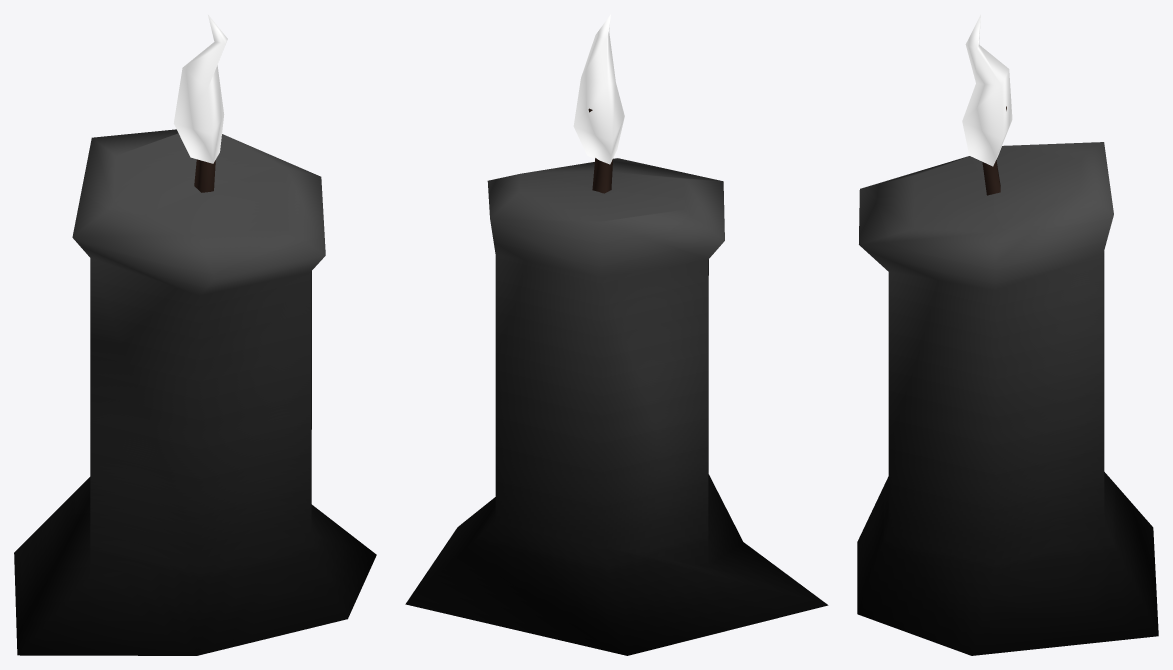
The model's file is CandleShapeD.056.glb.
3 views of the same model, side by side, from view 1: azimuth 30°, elevation 25°; view 2: azimuth 150°, elevation 25°; view 3: azimuth 270°, elevation 25° (orthographic). The views are drawn at different scales.
Visible parts, largest first — view 1: CandleShapeD.056; view 2: CandleShapeD.056; view 3: CandleShapeD.056.
Boxes of the visible parts, box(x1,y1,x2,y2) form: CandleShapeD.056: box(14, 15, 376, 655); CandleShapeD.056: box(405, 14, 828, 655); CandleShapeD.056: box(857, 14, 1158, 655).
Bounding box in the file's own units: 0.1822 × 0.2697 × 0.1308.
2 materials, 2 textured.
